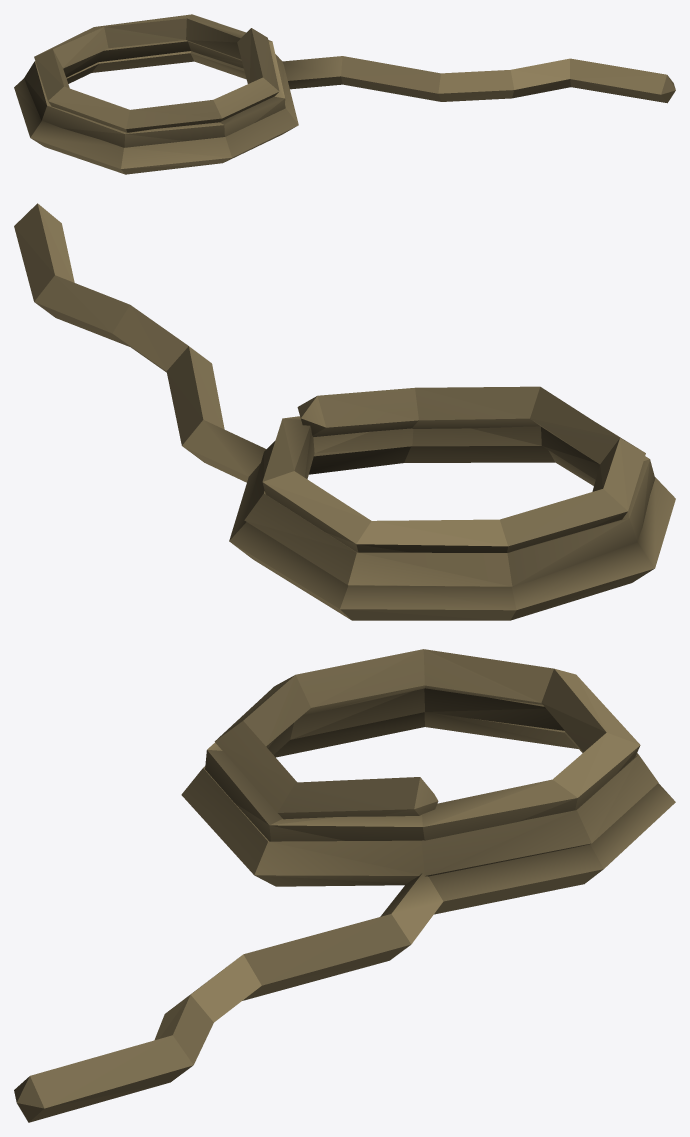
The model's file is ShipwreckBay_RopeCoil.fbx.
The picture shows the model from 3 angles, top to bottom: view 1: azimuth 30°, elevation 25°; view 2: azimuth 150°, elevation 25°; view 3: azimuth 270°, elevation 25°; orthographic projection. The views are drawn at different scales.
Parts seen in each view (by area): view 1: ShipwreckBay_RopeCoil; view 2: ShipwreckBay_RopeCoil; view 3: ShipwreckBay_RopeCoil.
Boxes of the visible parts, x1,y1,x2,y2 form: ShipwreckBay_RopeCoil: [14, 14, 675, 174]; ShipwreckBay_RopeCoil: [14, 203, 675, 620]; ShipwreckBay_RopeCoil: [14, 649, 675, 1122].
Size of the model in its own units: 2.74 by 0.363 by 1.79.
